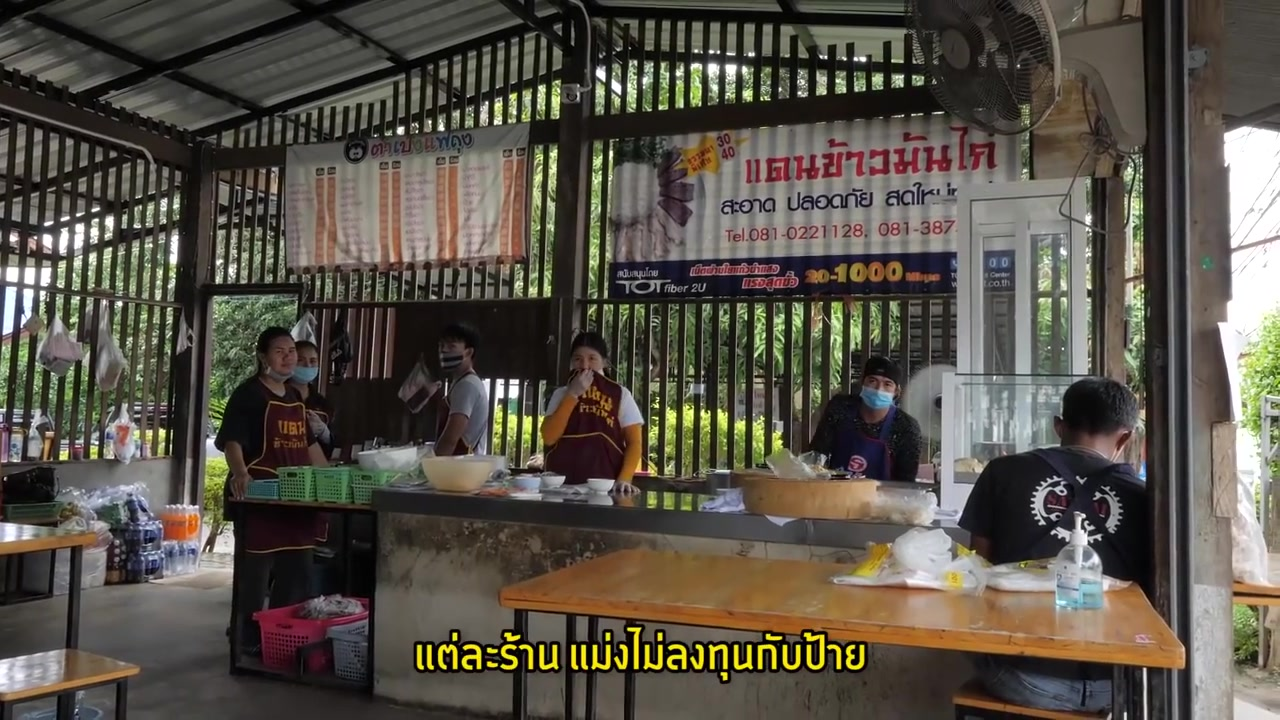text-label: (403, 619, 870, 685)
